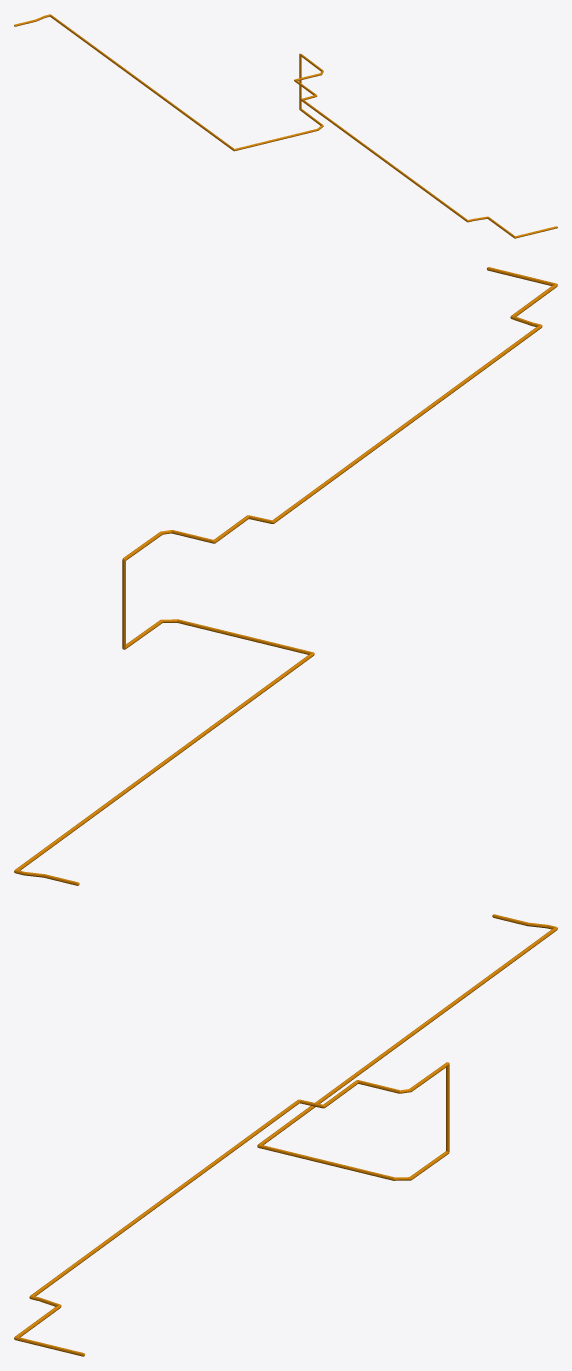
3 views of the same model, one above another, from view 1: azimuth 30°, elevation 25°; view 2: azimuth 150°, elevation 25°; view 3: azimuth 330°, elevation 25° (orthographic). The views are drawn at different scales.
Bounding box in the file's own units: 1394 × 520 × 6645.
